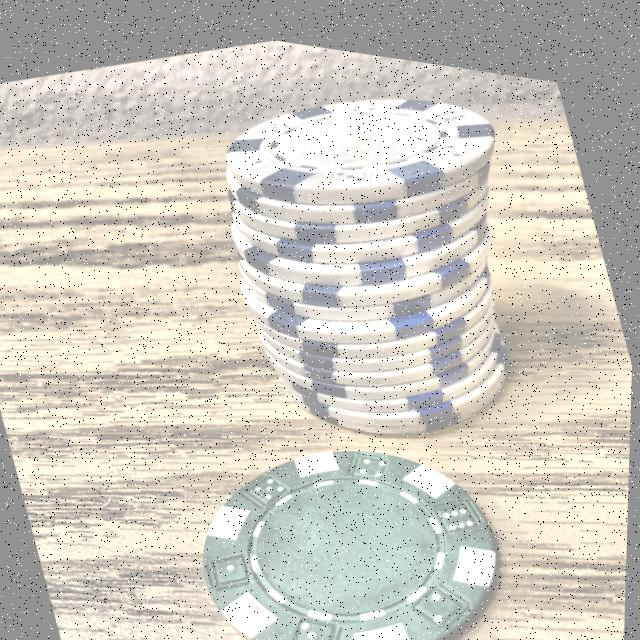Chip: (135, 17, 611, 512), (156, 363, 543, 640)
